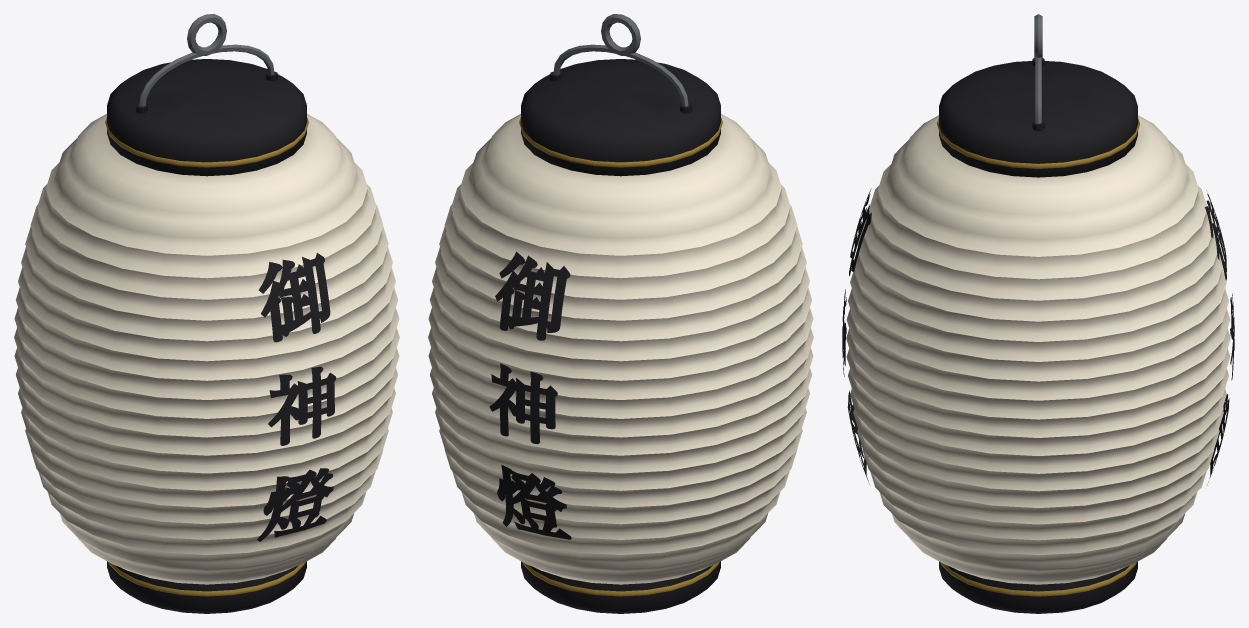
Rendered from paper_lantern_shrine.glb.
3 renders of one model, left to right at view 1: azimuth 30°, elevation 25°; view 2: azimuth 150°, elevation 25°; view 3: azimuth 270°, elevation 25°, orthographic.
Visible parts, largest first — view 1: paper_lantern; view 2: paper_lantern; view 3: paper_lantern.
Boxes of the visible parts, left/top/right/bottom form: paper_lantern: left=14, top=14, right=399, bottom=613; paper_lantern: left=428, top=14, right=813, bottom=613; paper_lantern: left=842, top=14, right=1234, bottom=613.
Bounding box in the file's own units: 0.34 × 0.5762 × 0.3467.
